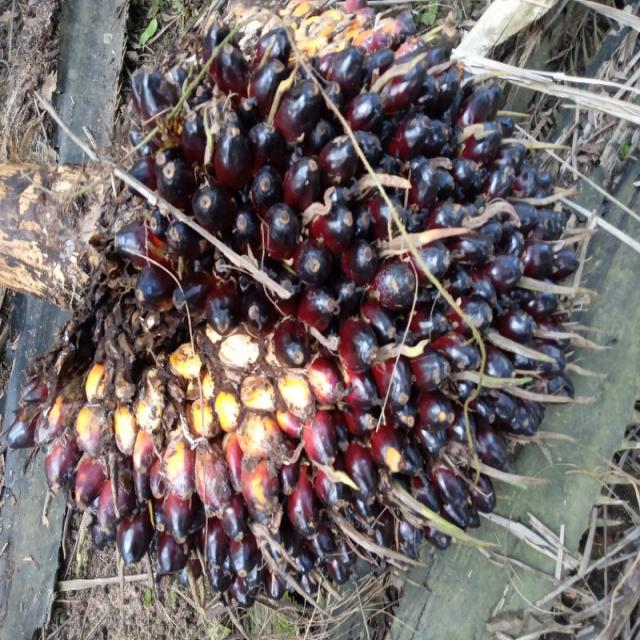fraksi 00: (34, 23, 613, 616)
